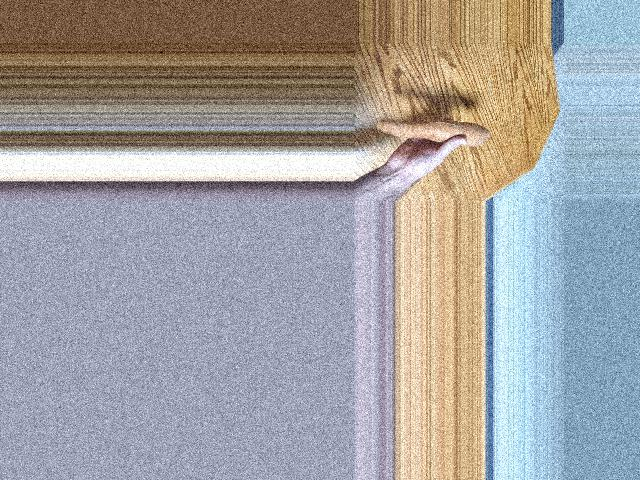sweet_potato: (372, 116, 487, 142)
